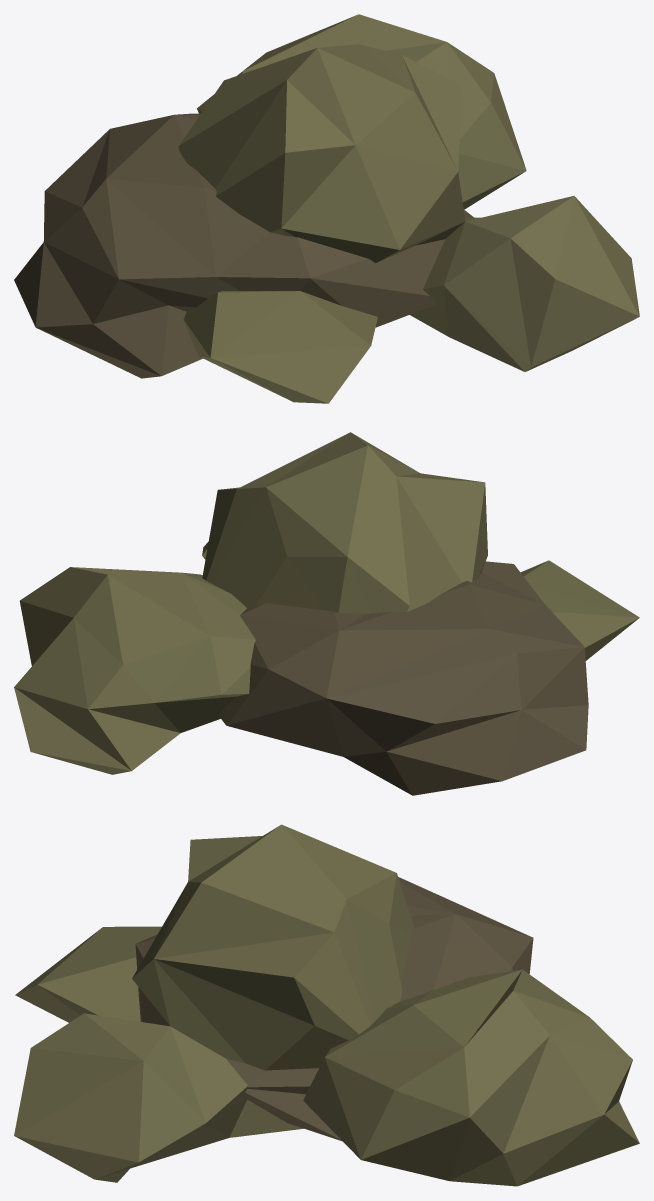
Rendered from SM_Env_Bush_Large_01.fbx.
3 renders of one model, top to bottom at view 1: azimuth 30°, elevation 25°; view 2: azimuth 150°, elevation 25°; view 3: azimuth 270°, elevation 25°, orthographic. The views are drawn at different scales.
Visible parts, largest first — view 1: SM_Env_Bush_Large_01; view 2: SM_Env_Bush_Large_01; view 3: SM_Env_Bush_Large_01.
Boxes of the visible parts, x1=… form: SM_Env_Bush_Large_01: x1=14, y1=14, x2=639, y2=403; SM_Env_Bush_Large_01: x1=14, y1=432, x2=639, y2=795; SM_Env_Bush_Large_01: x1=14, y1=824, x2=639, y2=1186.
Size of the model in its own units: 532 by 286 by 546.
